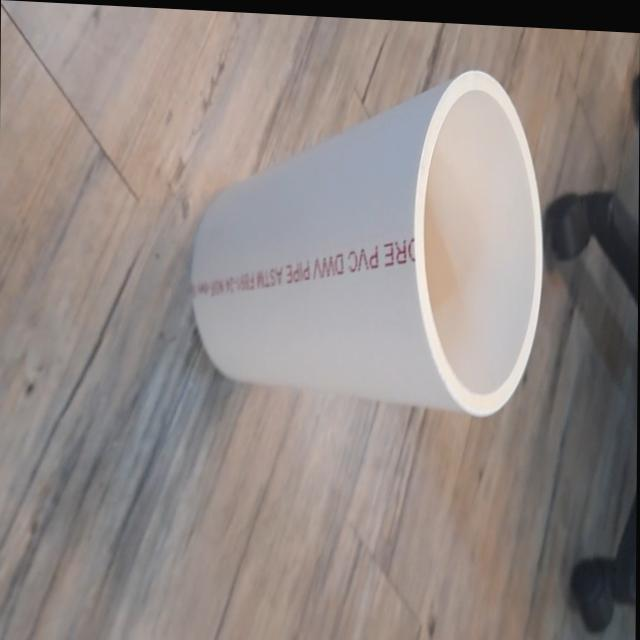CORAL: (184, 40, 548, 445)
